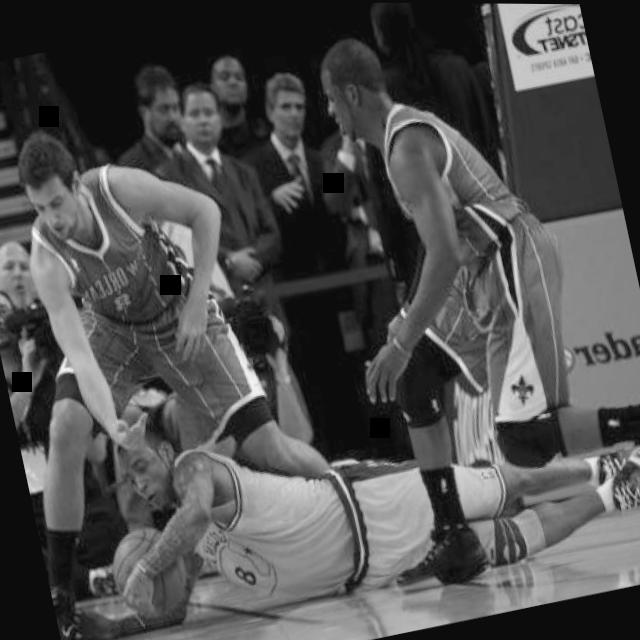Fall-Detected: (42, 264, 640, 640)
